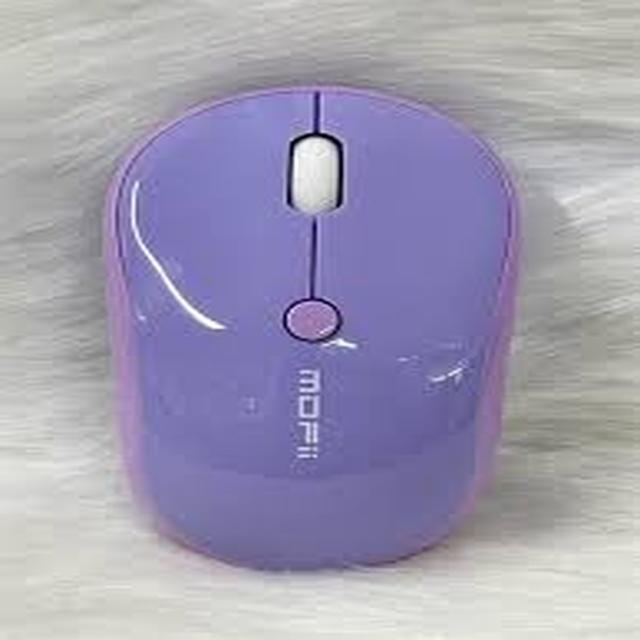mouse: (90, 39, 552, 589)
